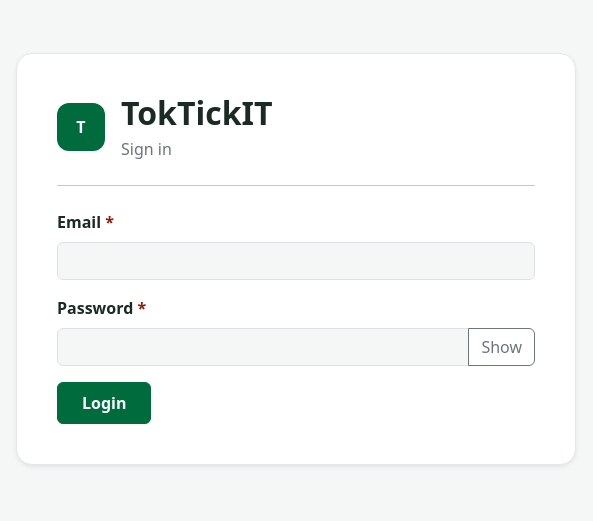
Test: Login › shows the generic invalid-credentials message and clears the password (AC-L3-02)
The width and height of the screenshot is (593, 521).
Step 1. Type "jane@toktickit.test" into the field labelled "Email *" → x=296, y=261, box [57,242,535,280]
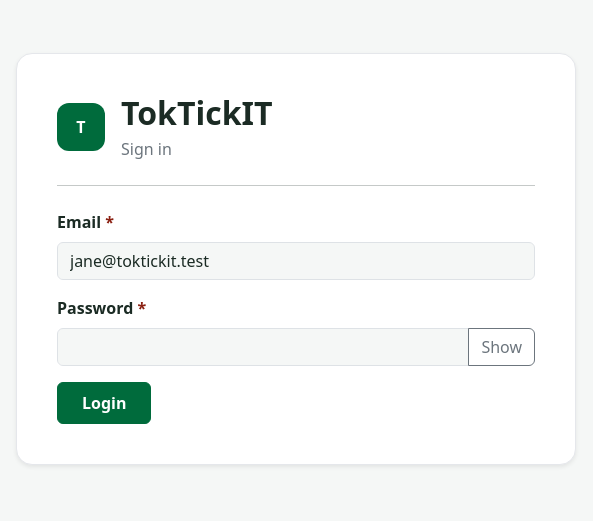
Step 2. Type "wrong" into the password field labelled "Password *" → x=263, y=347, box [57,328,469,366]
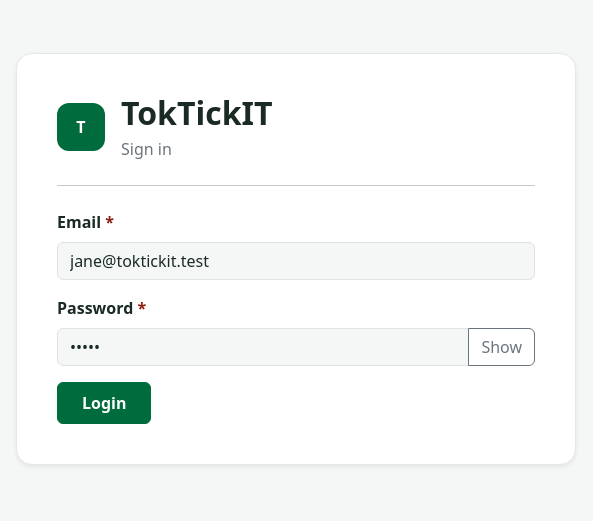
Step 3. Click the button "Login" → x=104, y=403, box [57,382,152,424]
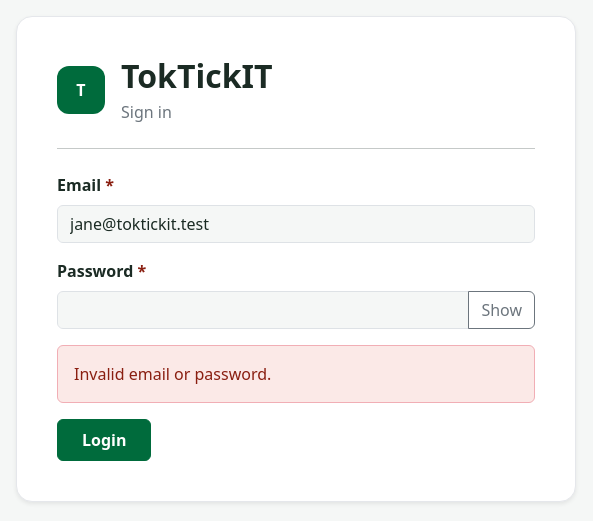
expect the message reads "Invalid email or password.": met, box [74,363,271,385]
expect the password field labelled "Password *" is empty: met, box [57,291,469,329]
